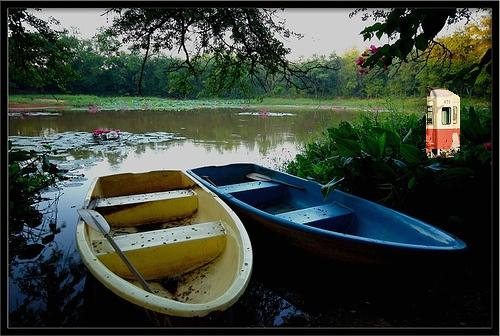tampered: (427, 87, 460, 158)
